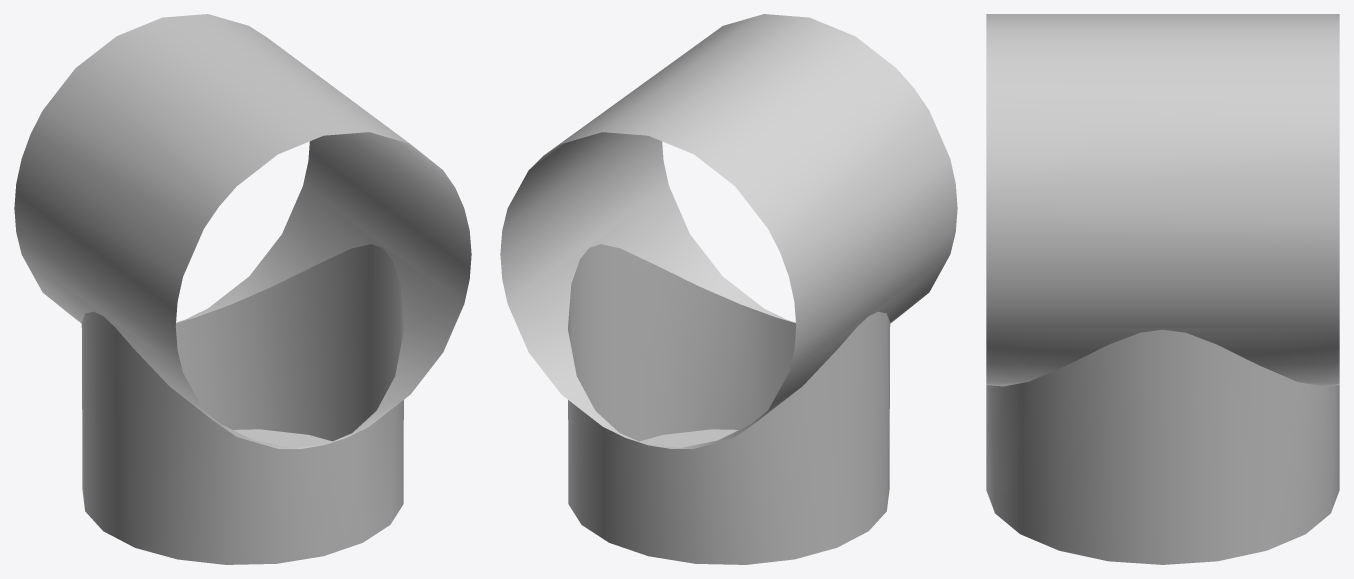
Rendered from wam2.dae.
The picture shows the model from 3 angles, left to right: view 1: azimuth 30°, elevation 25°; view 2: azimuth 150°, elevation 25°; view 3: azimuth 270°, elevation 25°; orthographic projection. The views are drawn at different scales.
Visible parts, largest first — view 1: wamUpperArmInShoulderLink; view 2: wamUpperArmInShoulderLink; view 3: wamUpperArmInShoulderLink.
Part boxes in pixels (left/top/right/bottom): wamUpperArmInShoulderLink: left=14, top=14, right=471, bottom=564; wamUpperArmInShoulderLink: left=500, top=14, right=957, bottom=564; wamUpperArmInShoulderLink: left=986, top=14, right=1339, bottom=564.
Size of the model in its own units: 0.127 by 0.1725 by 0.12.
Materials: 1 (1 with a texture image).
